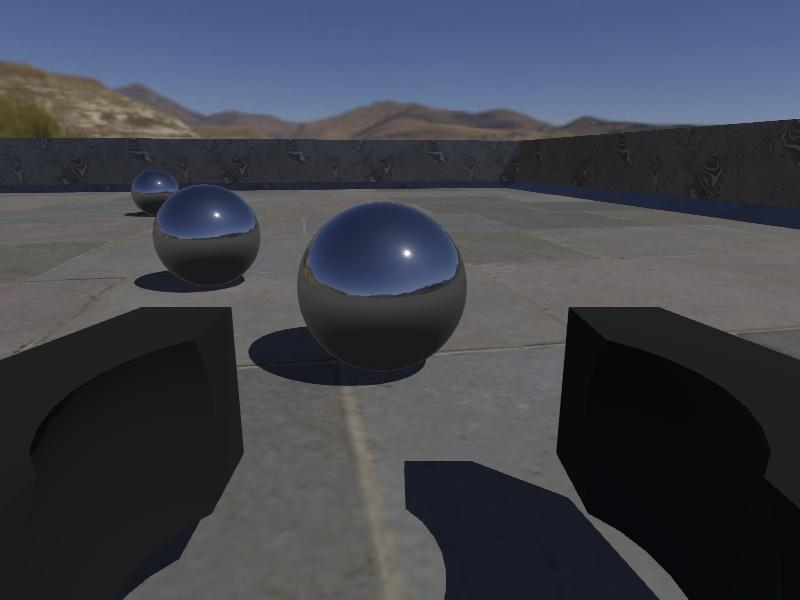steel ball: (296, 200, 468, 374), (152, 183, 262, 288)
